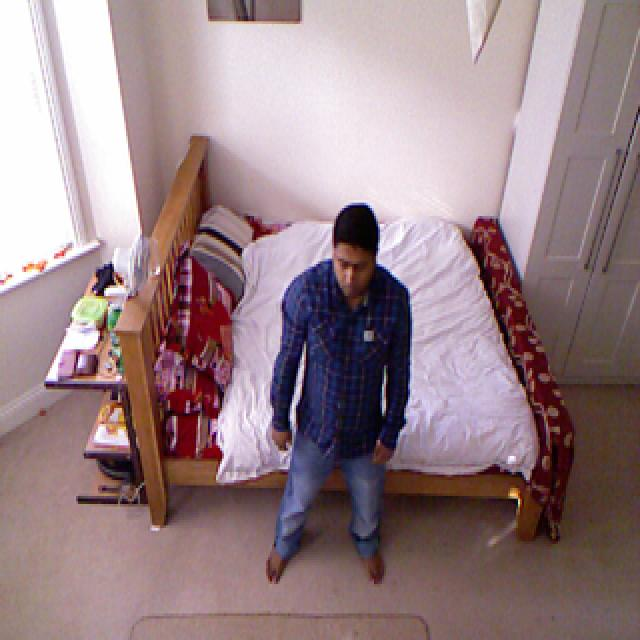standing: (278, 204, 423, 606)
